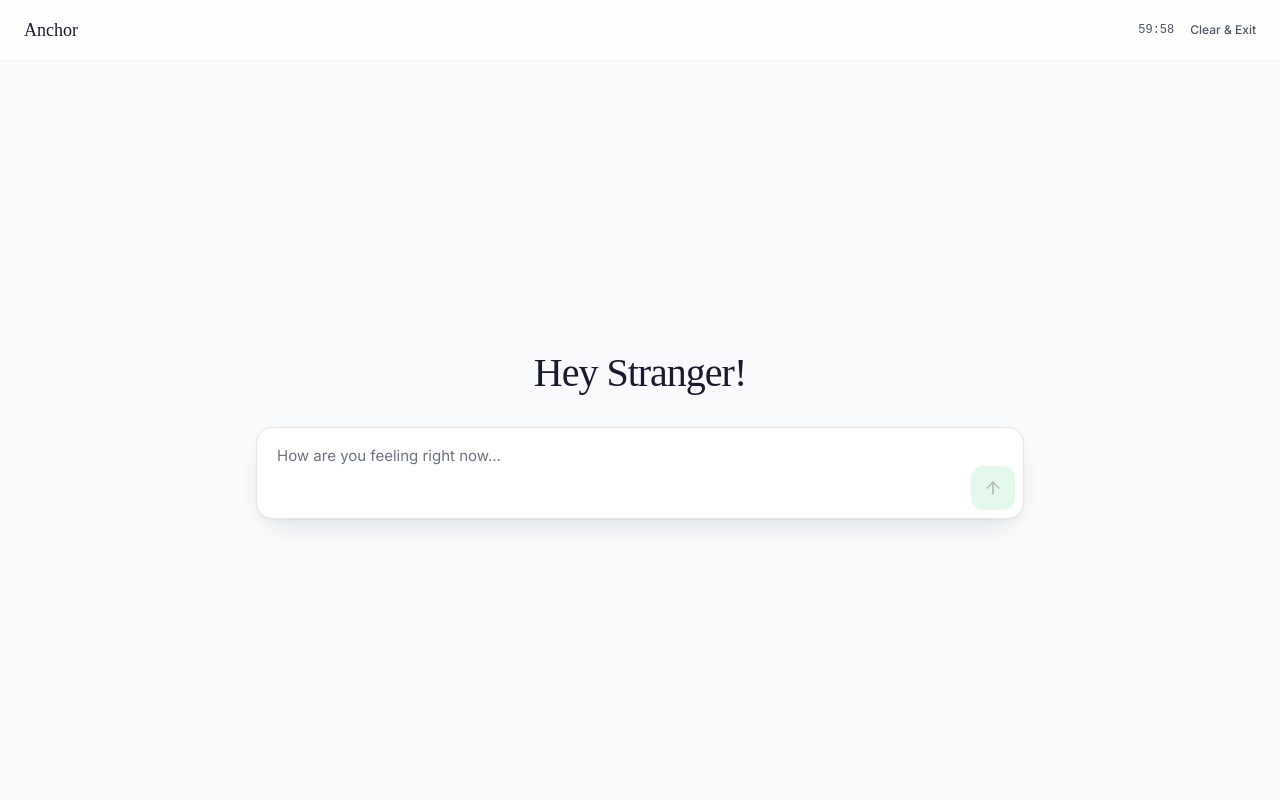
Test case: Chat – Chat Transition › sends its own copy of the transcript so a dead cache is survivable
Type "first message" into the text box with placeholder "How are you feeling right now..." at [614, 472], box [265,436,963,510]
Then press Enter
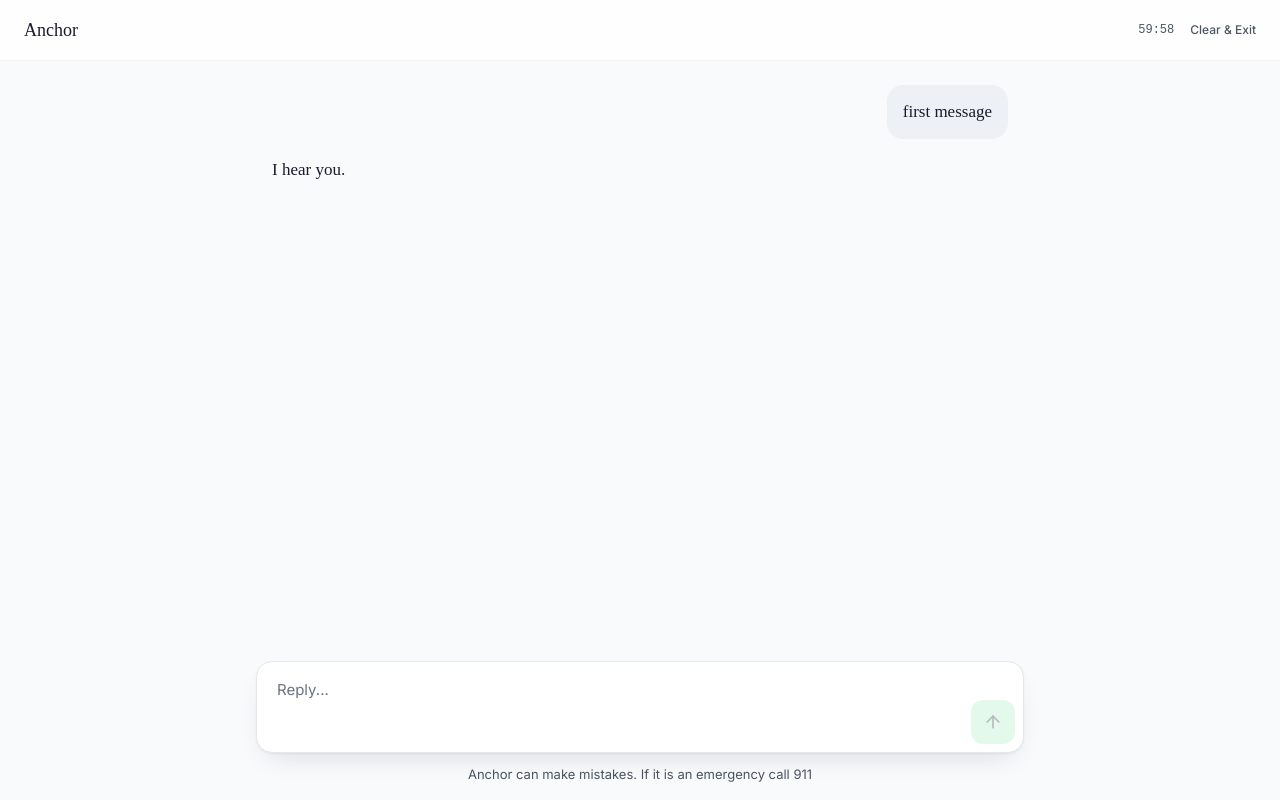
Expected: the text "I hear you." is shown, [272,160,345,179]
Type "second" into the text box with placeholder "Reply..." at [614, 706], box [265,670,963,744]
Then press Enter
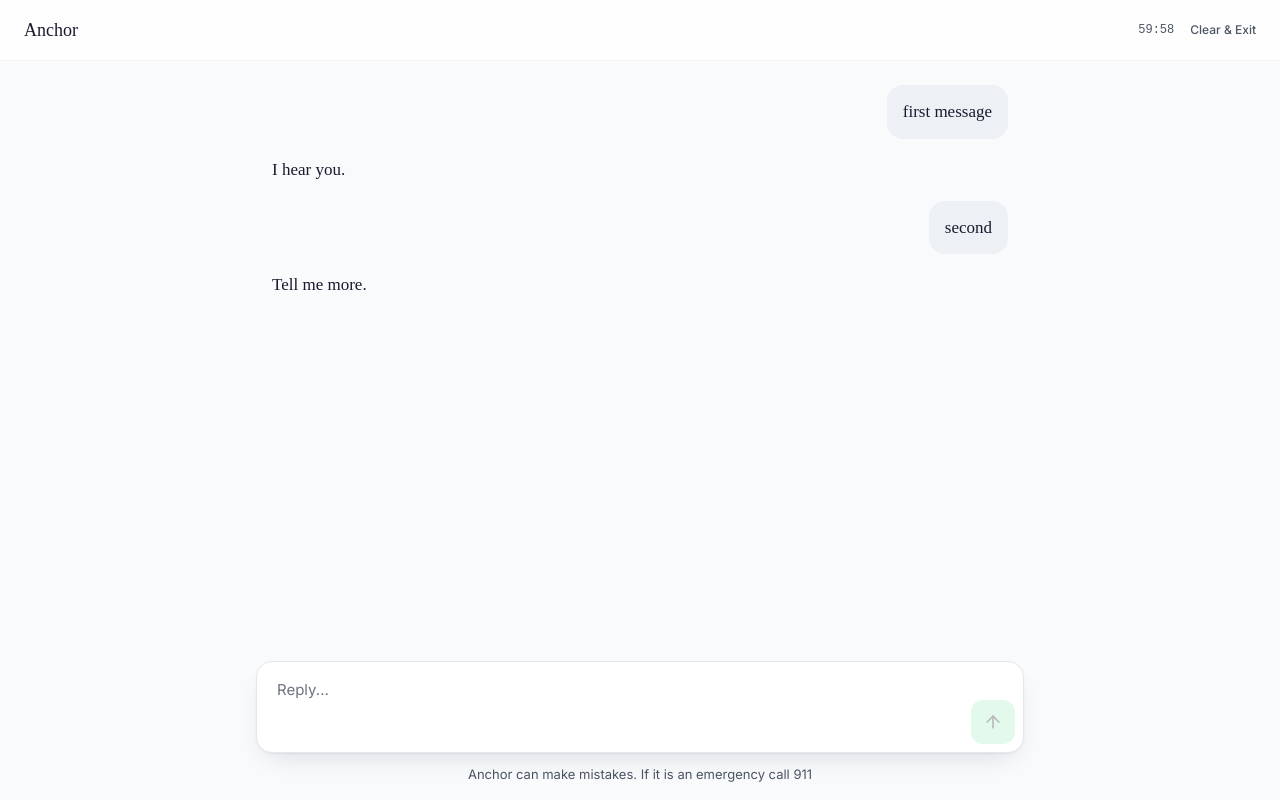
Expected: the text "second" is shown, [945,212,992,242]
